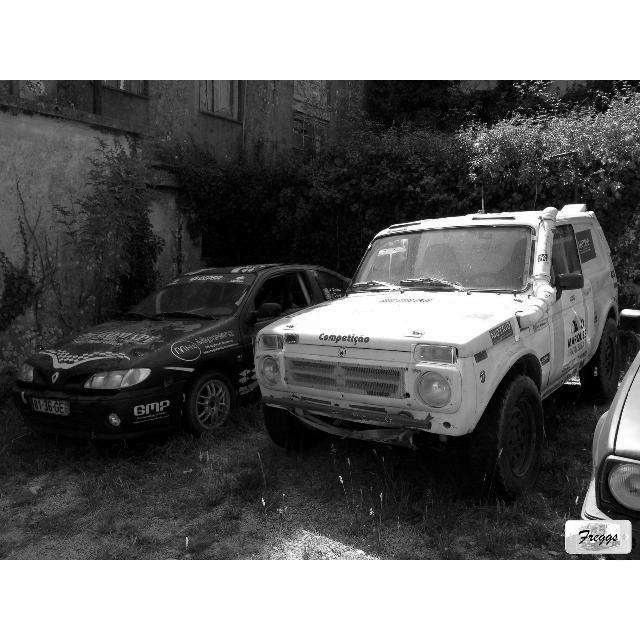front-bumper-dent: (262, 390, 458, 447)
